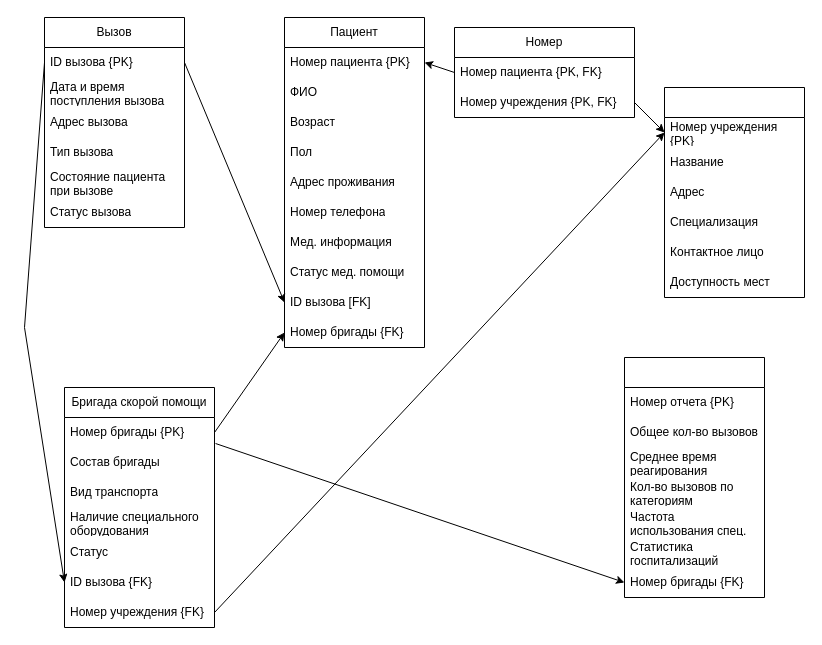
Some shapes in this 822 by 645 pixel diagram are drawn without their labels. The shapes that lost their labels are listed below. From the top down, each one's box as (x1, y1, x2, y2) in pixels, then its label:
(664, 86, 804, 298): Мед. учреждение
(624, 356, 764, 598): Статистика и отчёты
